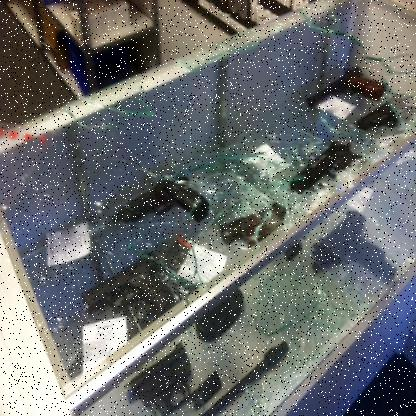pistol: (113, 173, 211, 232), (78, 256, 174, 314), (301, 64, 390, 108), (224, 200, 296, 248), (283, 141, 365, 183), (350, 101, 410, 125)
